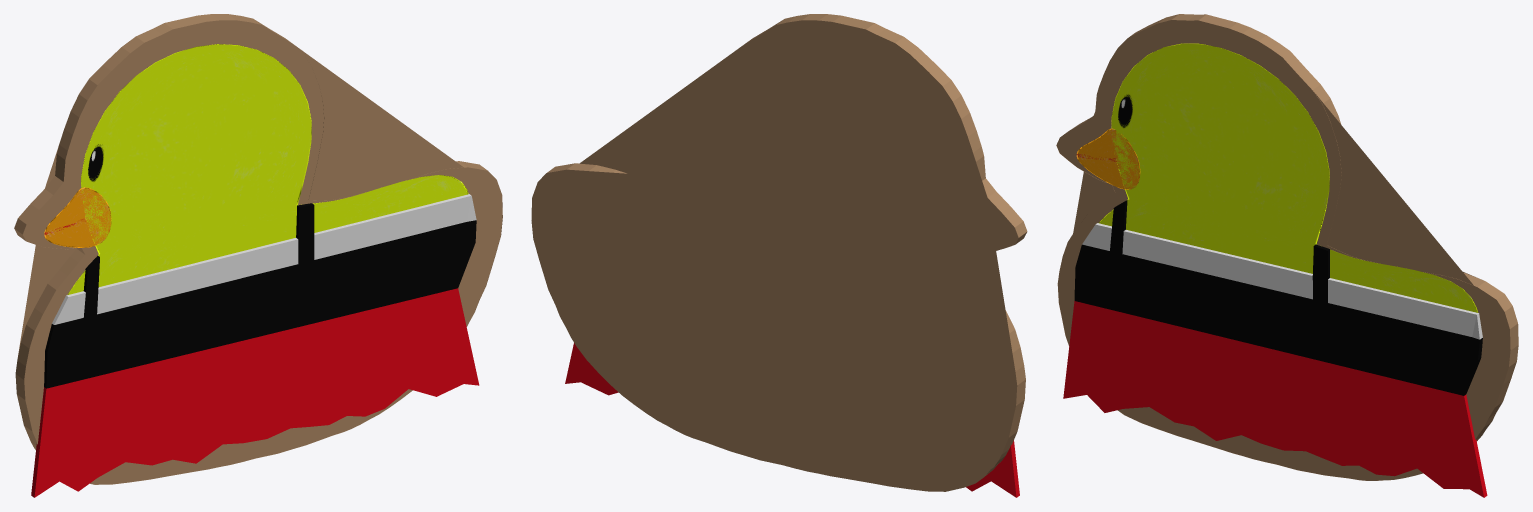
Rendered from damisela.fbx.
3 renders of one model, left to right at view 1: azimuth 30°, elevation 25°; view 2: azimuth 150°, elevation 25°; view 3: azimuth 330°, elevation 25°, orthographic. The views are drawn at different scales.
Parts seen in each view (by area): view 1: Carton, Cube; view 2: Carton, Cube; view 3: Carton, Cube.
Boxes of the visible parts, box(x1,y1,x2,y2) form: Carton: box(14, 14, 502, 484); Cube: box(31, 194, 479, 497); Carton: box(531, 14, 1027, 491); Cube: box(565, 343, 1019, 497); Carton: box(1056, 14, 1518, 480); Cube: box(1063, 200, 1487, 497).
Bounding box in the file's own units: 144 × 129 × 6.34.
